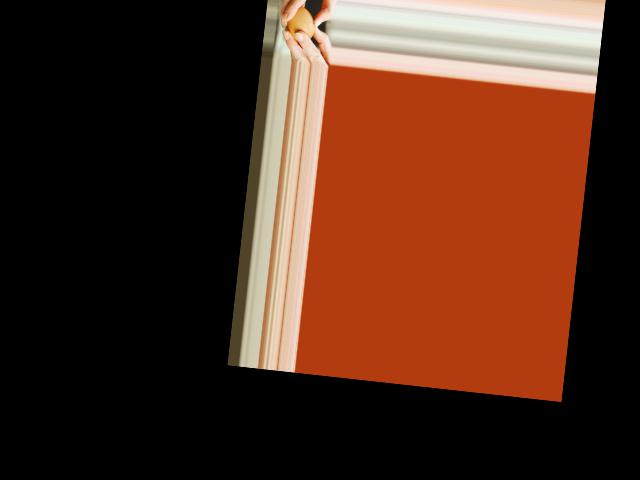egg: (284, 6, 317, 43)
